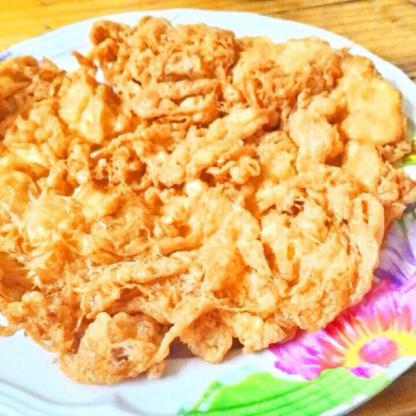Omelette: (0, 31, 401, 390)
